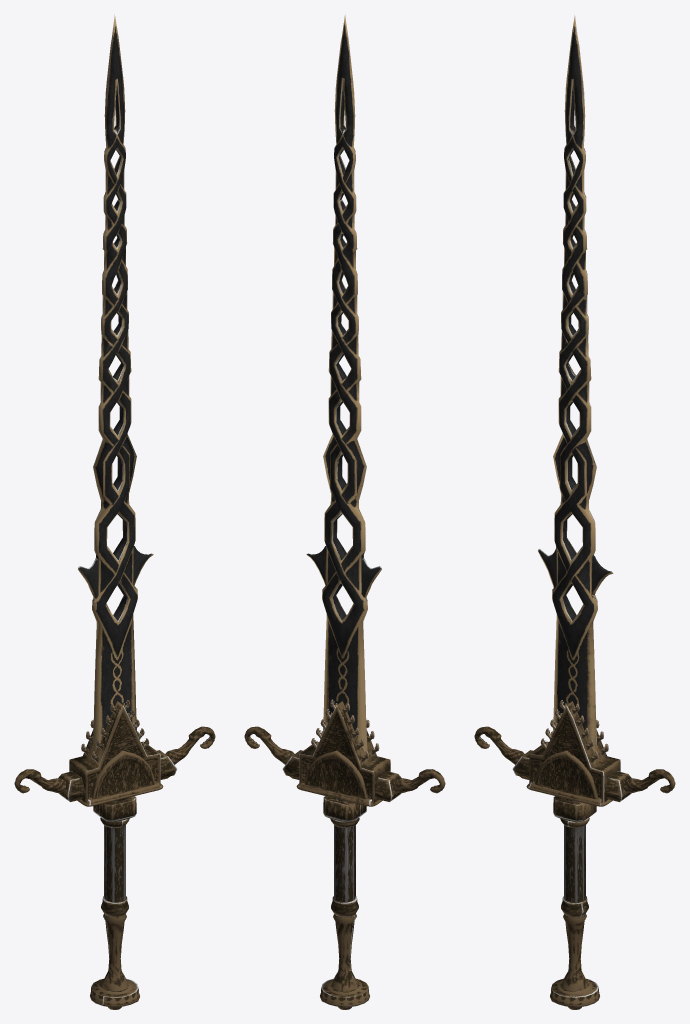
Rendered from wa_pd_onyxblade.glb.
3 views of the same model, side by side, from view 1: azimuth 30°, elevation 25°; view 2: azimuth 150°, elevation 25°; view 3: azimuth 330°, elevation 25° (orthographic).
Parts seen in each view (by area): view 1: WP_A_0224.003; view 2: WP_A_0224.003; view 3: WP_A_0224.003.
Part boxes in pixels (<box>): WP_A_0224.003: <box>14,14,215,1009</box>; WP_A_0224.003: <box>244,15,445,1009</box>; WP_A_0224.003: <box>474,15,675,1009</box>.
Bounding box in the file's own units: 25.37 × 121 × 5.45.
Materials: 1 (1 with a texture image).
